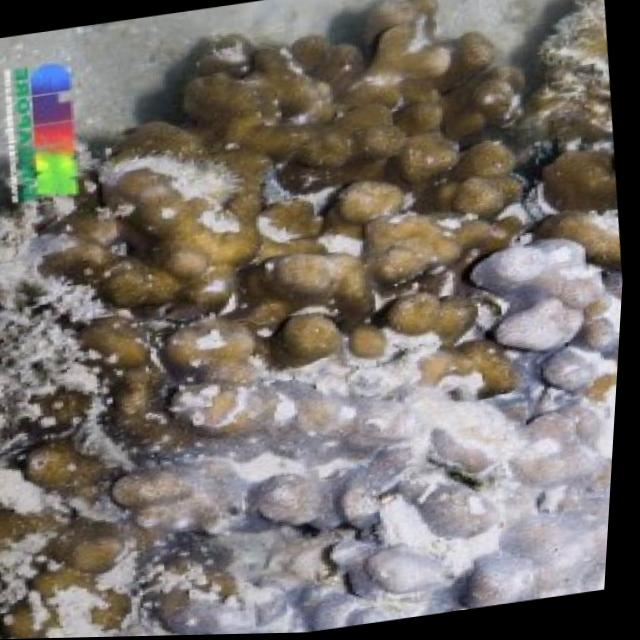Bleached Coral: (147, 225, 629, 637)
